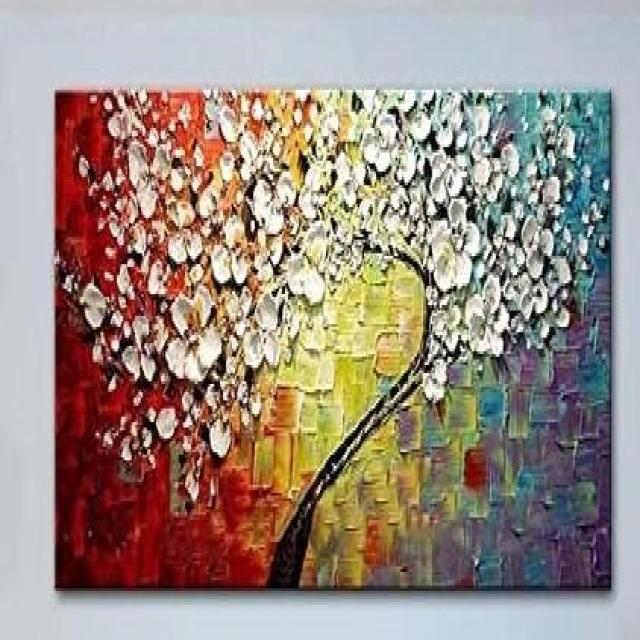painting: (55, 89, 612, 590)
